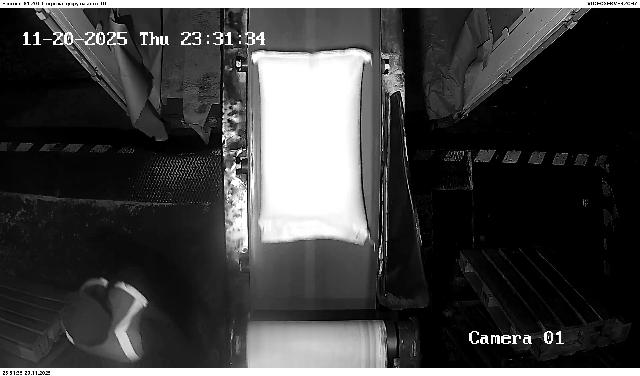bag: (253, 49, 372, 245)
